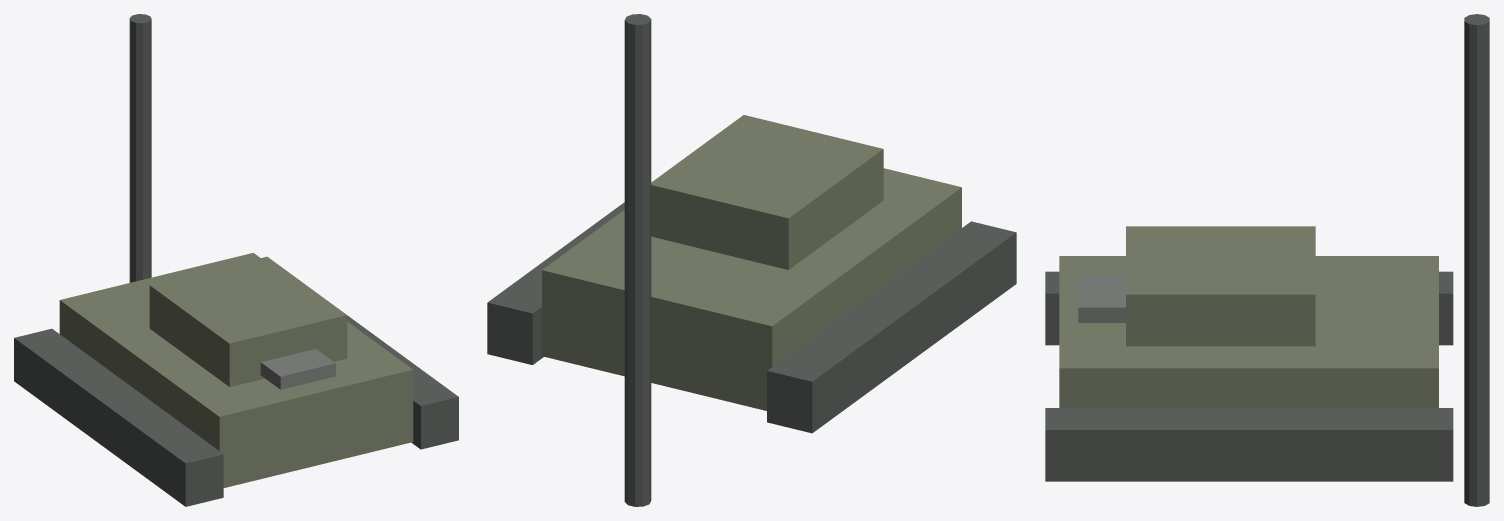
File: artillery.glb
The picture shows the model from 3 angles, left to right: view 1: azimuth 30°, elevation 25°; view 2: azimuth 150°, elevation 25°; view 3: azimuth 270°, elevation 25°; orthographic projection. The views are drawn at different scales.
Visible parts, largest first — view 1: p0, p3, p1, p4, p2, p5; view 2: p0, p3, p1, p4, p2; view 3: p0, p2, p3, p4, p5, p1.
Part boxes in pixels (box(x1,y1,x2,y2)): p0: box(59, 253, 413, 487); p3: box(149, 256, 347, 386); p1: box(14, 328, 223, 506); p4: box(129, 14, 151, 282); p2: box(347, 315, 458, 449); p5: box(260, 349, 335, 389); p0: box(542, 168, 961, 410); p3: box(651, 115, 883, 269); p1: box(767, 221, 1016, 433); p4: box(624, 14, 651, 506); p2: box(487, 202, 624, 364); p0: box(1059, 256, 1438, 407); p2: box(1045, 408, 1453, 481); p3: box(1126, 226, 1315, 346); p4: box(1464, 14, 1489, 506); p5: box(1078, 275, 1125, 322); p1: box(1045, 271, 1453, 345).
Bounding box in the file's own units: 3.95 × 5.6 × 4.68.
